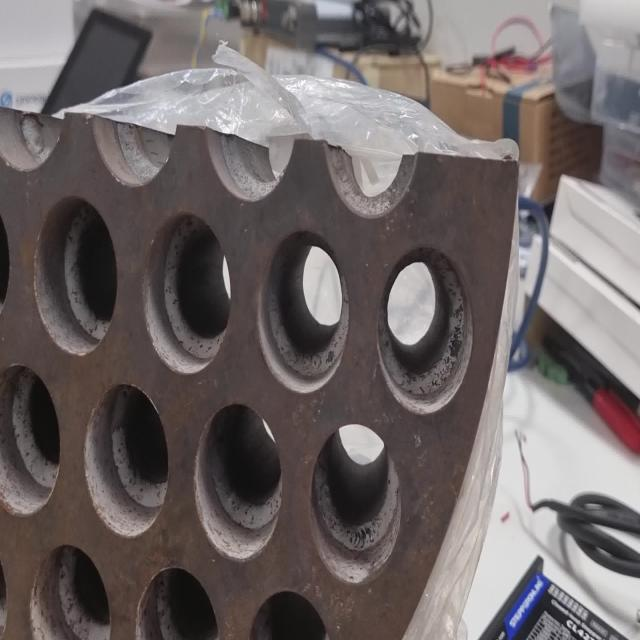Hole: (376, 241, 474, 414), (256, 228, 350, 393), (309, 423, 402, 585), (144, 210, 232, 376), (194, 400, 284, 562), (33, 195, 117, 356), (82, 384, 169, 538), (1, 363, 61, 517), (29, 542, 110, 640), (135, 564, 220, 640)
